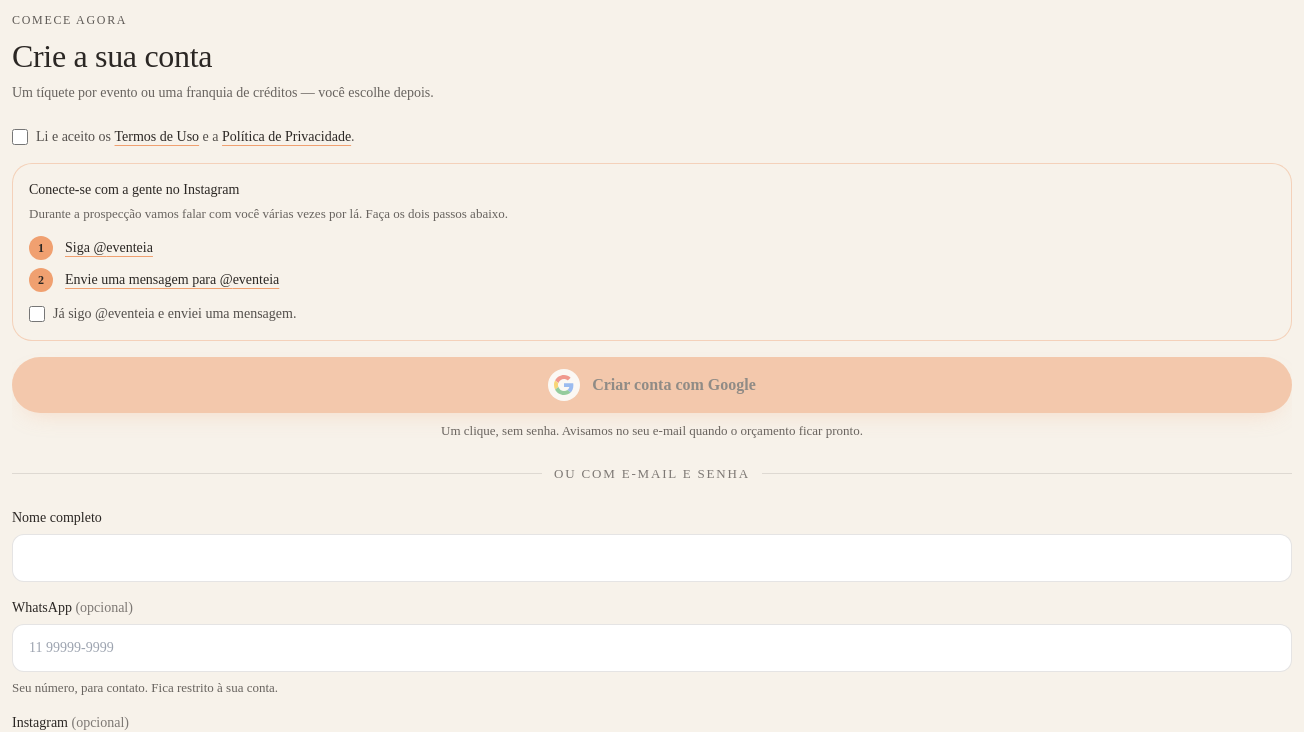
Test: checkbox de aceite no /registrar › bloqueia Google e e-mail até marcar, com links para /termos e /privacidade
Expected: the button "Criar conta com Google" is disabled, [12,357,1292,413]
Step 1. Click the checkbox labelled "Li e aceito os Termos de Uso e a Política de Privacidade ." → (20, 137), box [12,129,28,145]
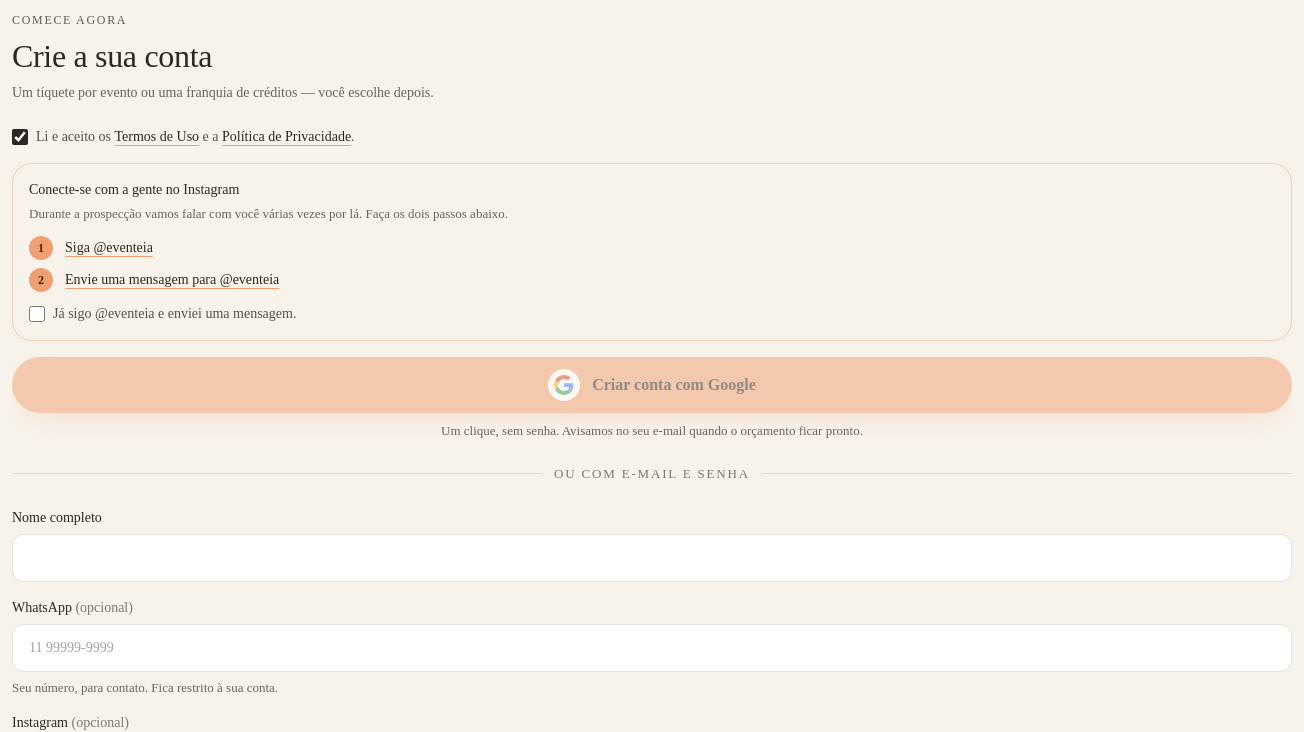
Step 2. Click the checkbox labelled "Já sigo @eventeia e enviei uma mensagem." → (37, 314), box [29,306,45,322]
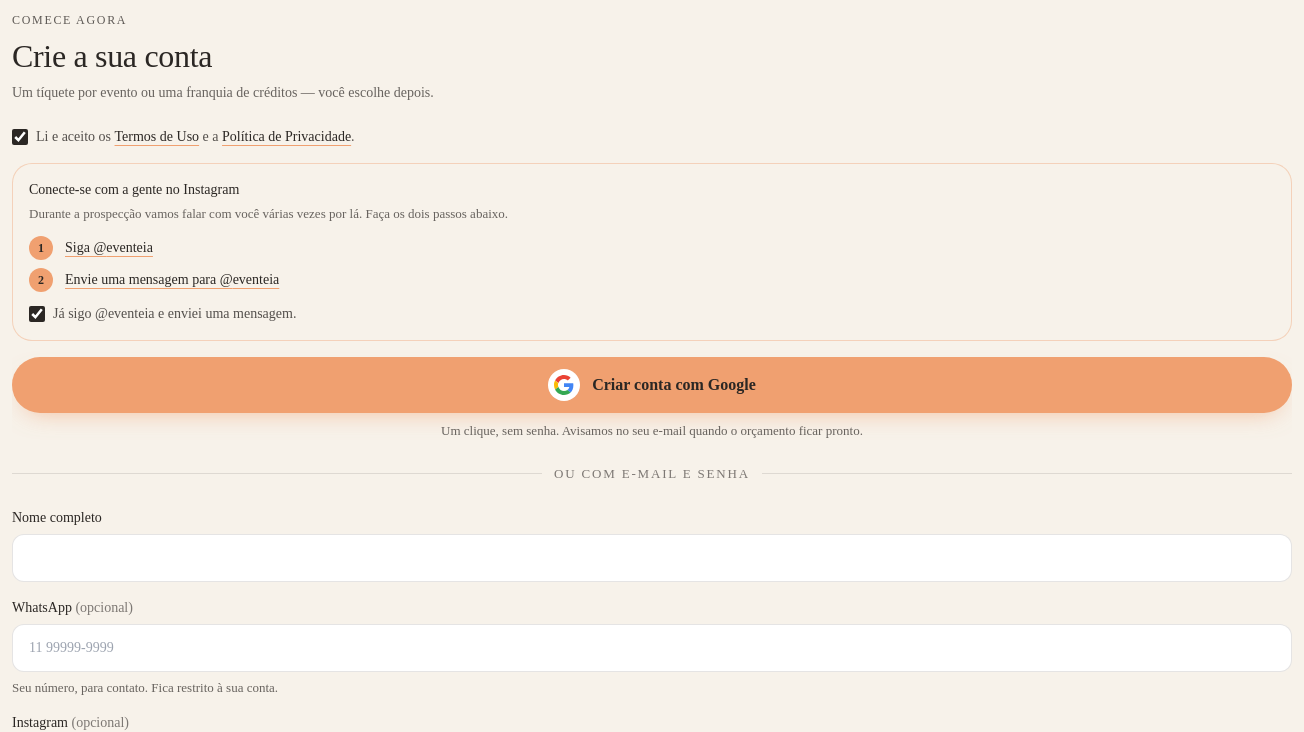
Expected: the button "Criar conta com Google" is enabled, [12,357,1292,413]
Step 3. Click the checkbox labelled "Li e aceito os Termos de Uso e a Política de Privacidade ." → (20, 137), box [12,129,28,145]
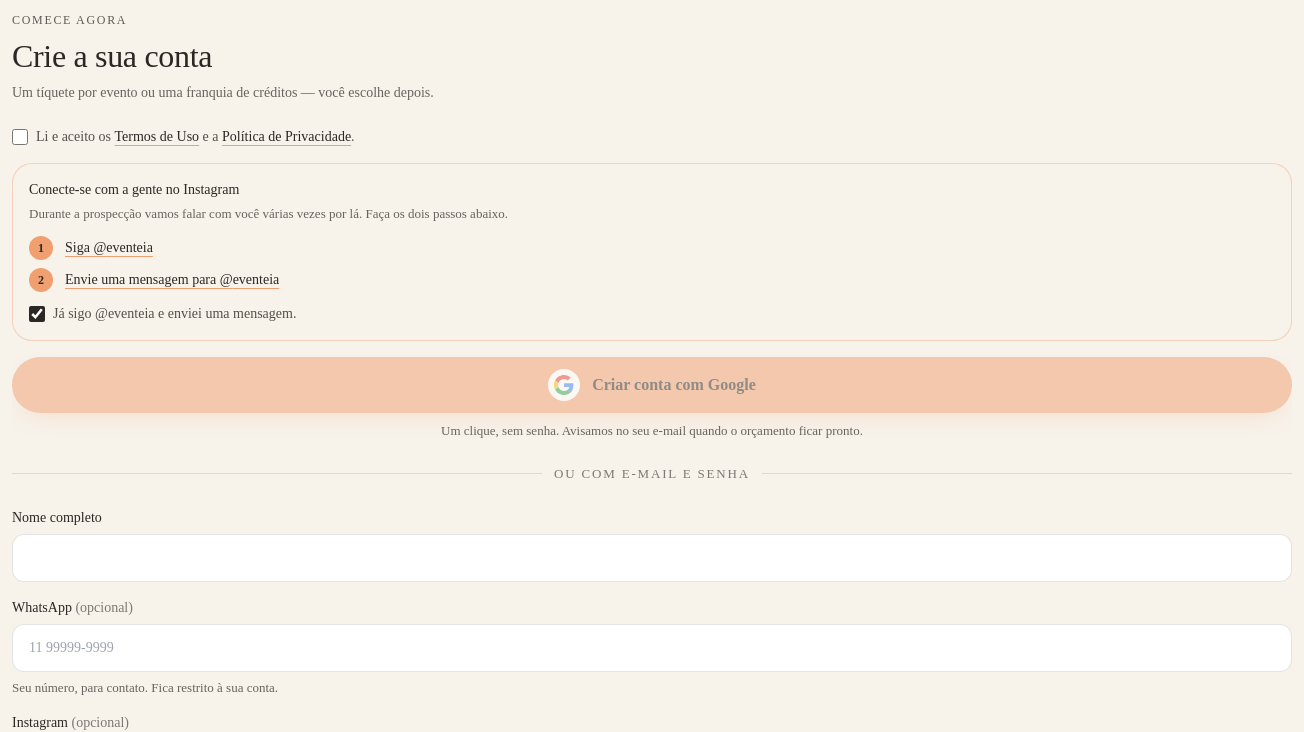
Expected: the button "Criar conta com Google" is disabled, [12,357,1292,413]
